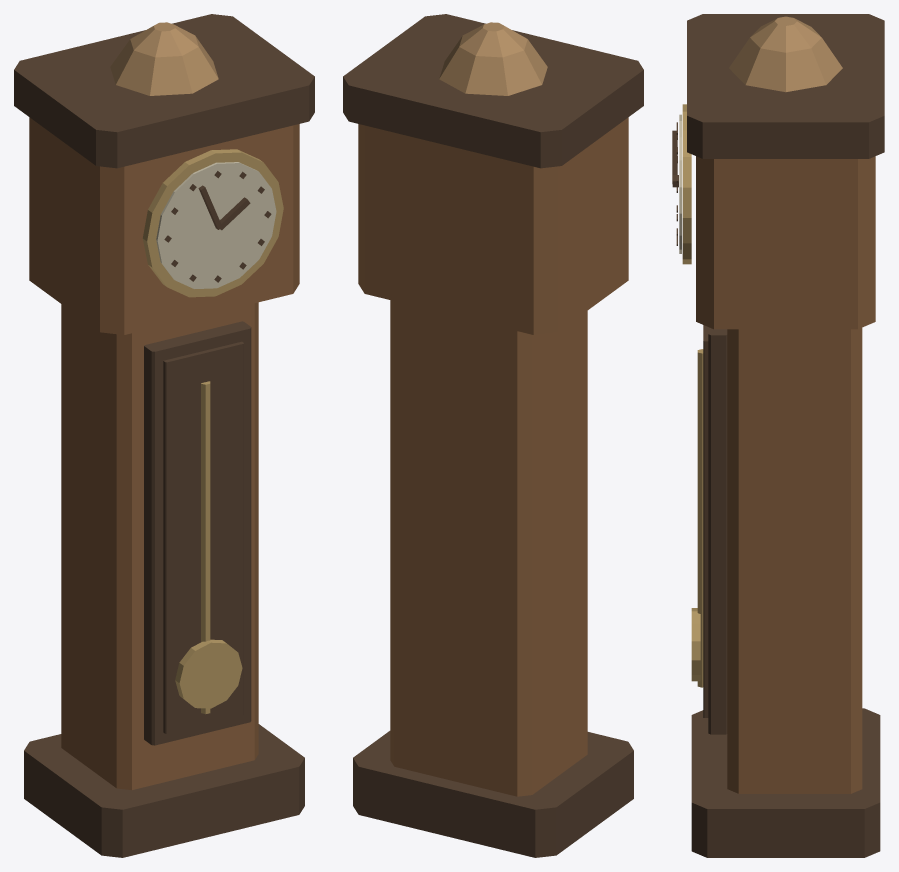
Rendered from clock_grandfather.glb.
3 views of the same model, side by side, from view 1: azimuth 30°, elevation 25°; view 2: azimuth 150°, elevation 25°; view 3: azimuth 270°, elevation 25° (orthographic).
Visible parts, largest first — view 1: geometry; view 2: geometry; view 3: geometry.
Part boxes in pixels (<box>): geometry: <box>14,14,314,857</box>; geometry: <box>343,14,643,857</box>; geometry: <box>672,14,884,857</box>.
Bounding box in the file's own units: 0.57 × 1.93 × 0.473.
